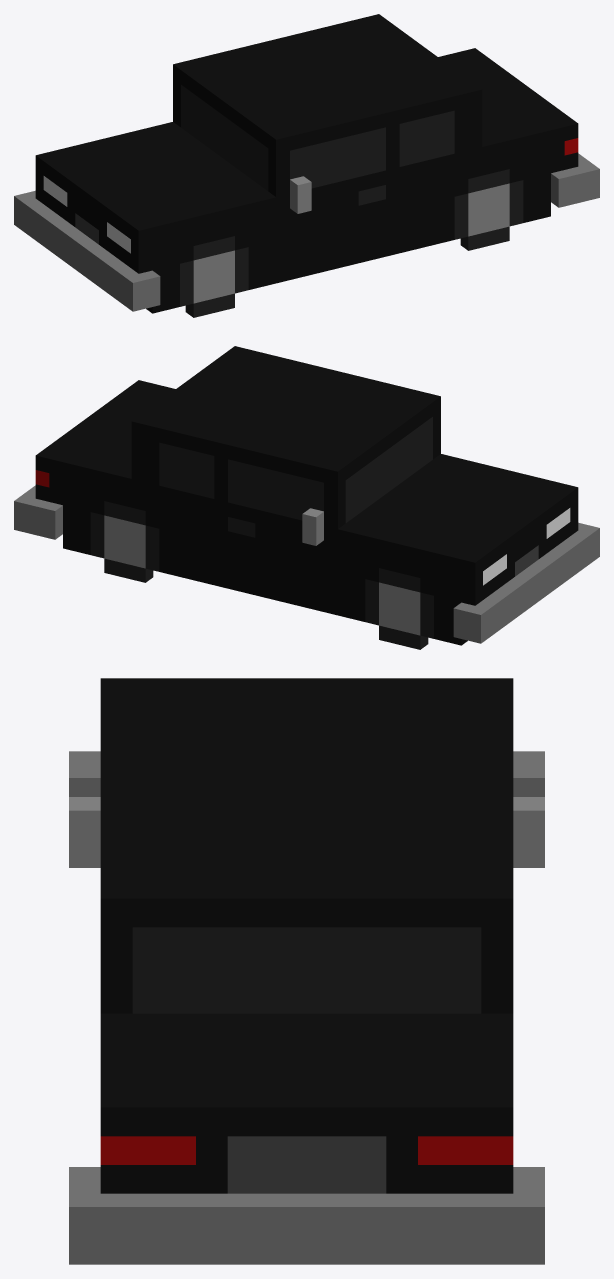
File: cochenegro.fbx
3 views of the same model, one above another, from view 1: azimuth 30°, elevation 25°; view 2: azimuth 150°, elevation 25°; view 3: azimuth 270°, elevation 25° (orthographic). The views are drawn at different scales.
Visible parts, largest first — view 1: Cubo.392; view 2: Cubo.392; view 3: Cubo.392.
Part boxes in pixels (x1,y1,x2,y2): Cubo.392: [14, 14, 599, 317]; Cubo.392: [14, 346, 599, 649]; Cubo.392: [69, 678, 544, 1264].
Bounding box in the file's own units: 1500 × 1100 × 3400.
